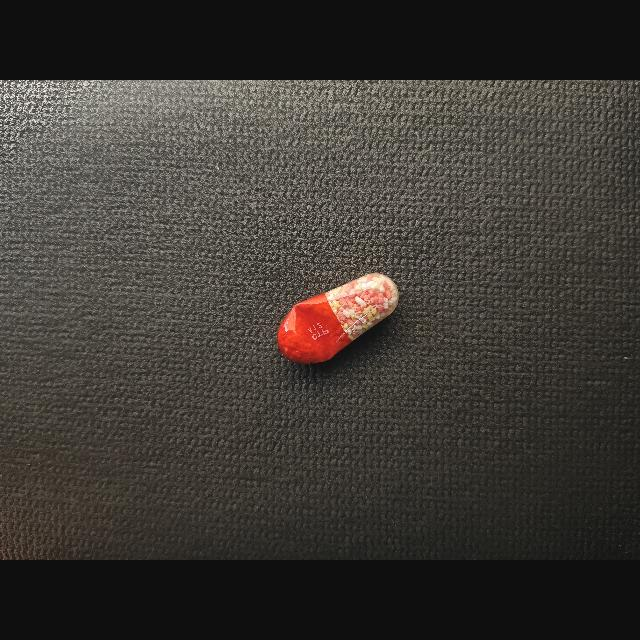Defective Capsule: (277, 273, 399, 364)
